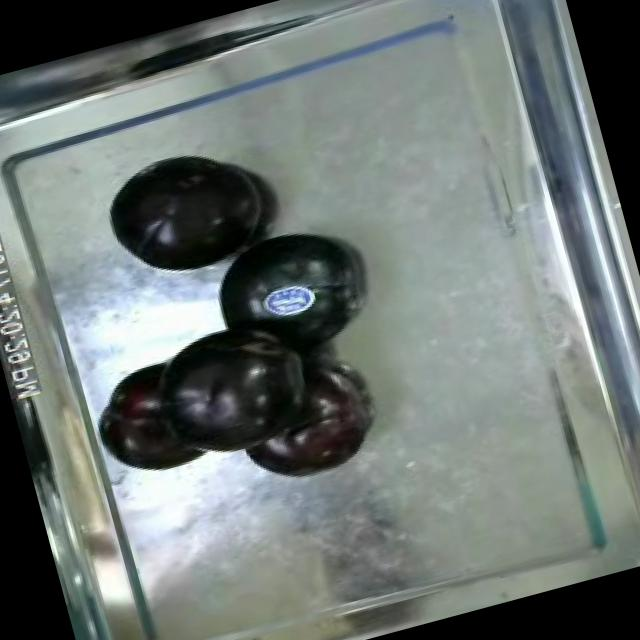Fruit: (188, 200, 384, 382), (87, 132, 283, 303), (8, 383, 63, 482)
